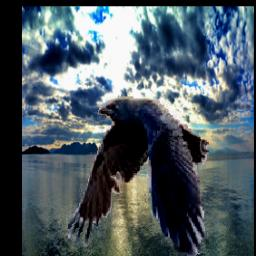Crow: (69, 97, 210, 256)
